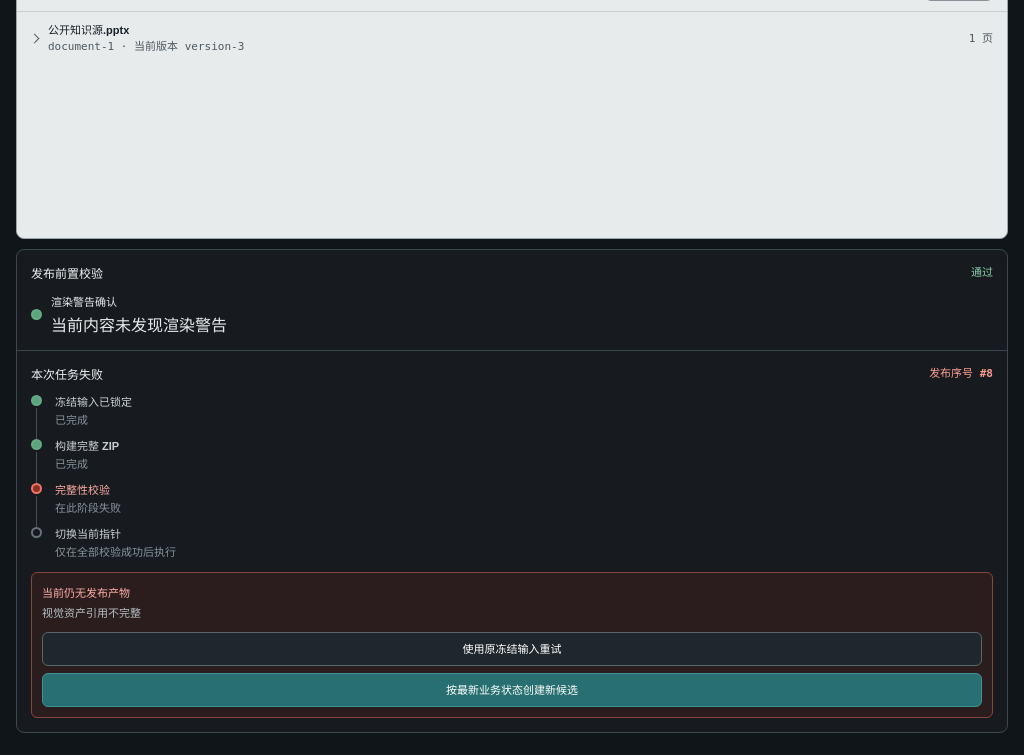
Scenario: 冻结发布台账 › 重试遇到全局占用时刷新为活动任务，清除旧错误并恢复操作焦点
(page scrolled)
Click the button "使用原冻结输入重试": point(512, 649) [42,632,982,666]
(page scrolled)
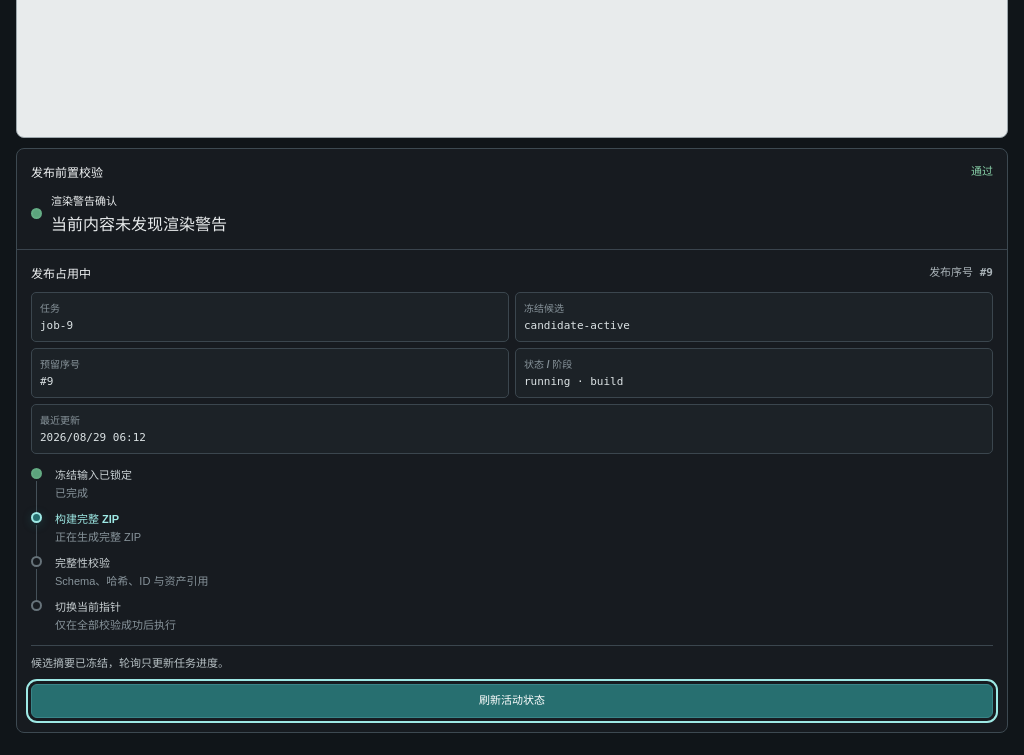
Now the heading "发布占用中" is shown, box [31,264,91,281]
Now the element named "活动发布任务" shows "job-9", box [40,319,73,332]
